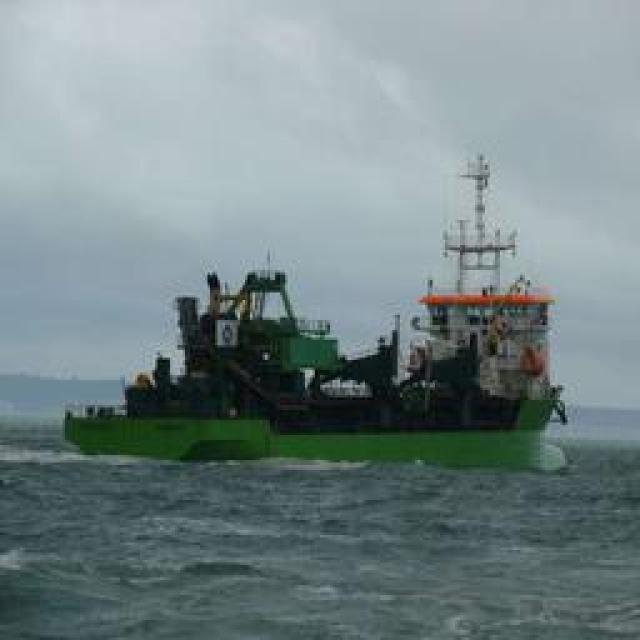CIV_Ship: (392, 147, 566, 435)
